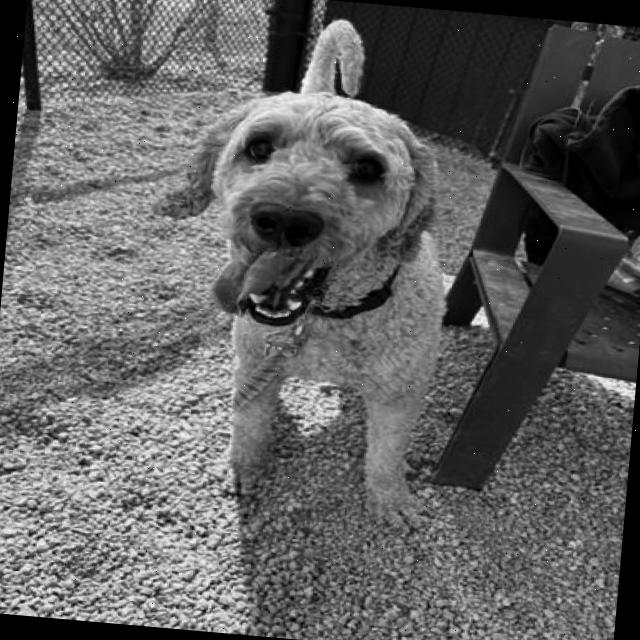Poodle_dog: (144, 73, 464, 348)
